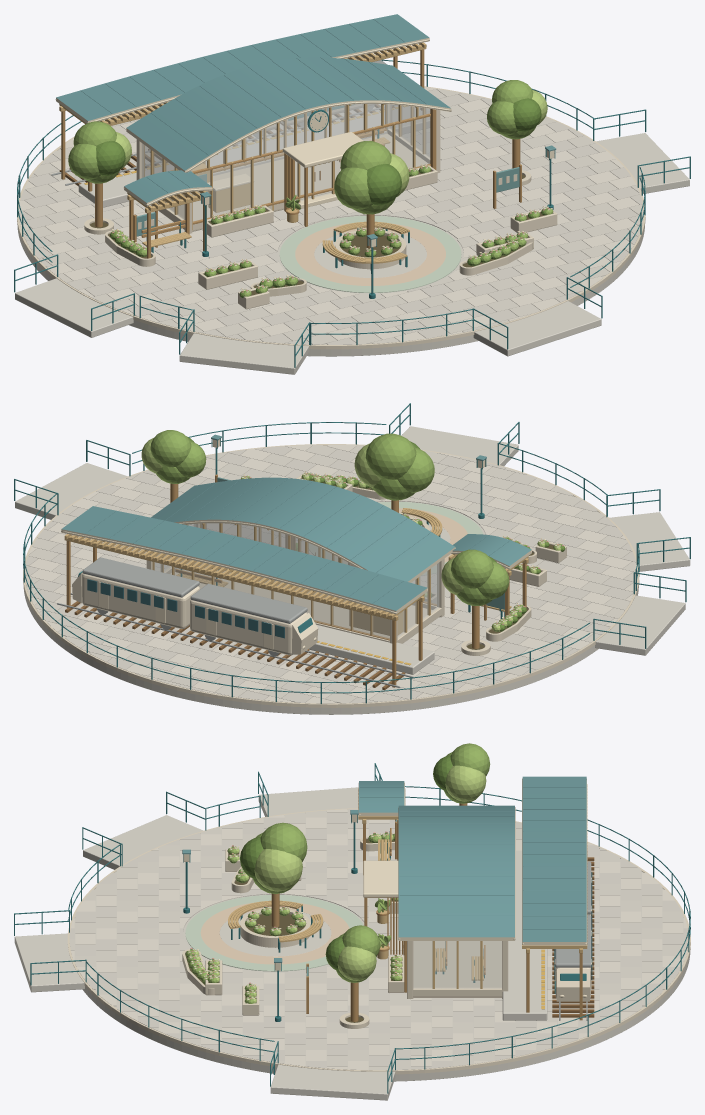
Rendered from transport.glb.
3 views of the same model, one above another, from view 1: azimuth 30°, elevation 25°; view 2: azimuth 150°, elevation 25°; view 3: azimuth 270°, elevation 25° (orthographic).
Visible parts, largest first — view 1: Site_Components__WarmLimestonePaver0, Site_Components__WarmLimestonePaver1, Site_Components__WarmLimestonePaver2, Site_Components__stone, ModernYuanliStation__roof, ModernYuanliStation__Clear warm architectural glazing, SidePlatformCanopy__roof, Landscape_Components__leaf, Landscape_Components__cream, Site_Components__rail, Landscape_Components__leafDark, Landscape_Components__Soft sage stone inlay (+27 smaller); view 2: Site_Components__WarmLimestonePaver0, Site_Components__WarmLimestonePaver2, Site_Components__WarmLimestonePaver1, Site_Components__stone, ModernYuanliStation__roof, SidePlatformCanopy__roof, Landscape_Components__leaf, Site_Components__rail, TrainRollingStock__cream, ModernYuanliStation__Clear warm architectural glazing, TrainRollingStock__gray, Site_Components__cream (+21 smaller); view 3: Site_Components__WarmLimestonePaver2, Site_Components__WarmLimestonePaver0, Site_Components__WarmLimestonePaver1, Site_Components__stone, ModernYuanliStation__roof, SidePlatformCanopy__roof, Site_Components__rail, Landscape_Components__leaf, Landscape_Components__leafLight, ModernYuanliStation__Clear warm architectural glazing, Site_Components__cream, PlatformAndDisplayTrack__stone (+23 smaller).
Part boxes in pixels (bbox=[...]): Site_Components__WarmLimestonePaver0: bbox=[23, 89, 643, 344]; Site_Components__WarmLimestonePaver1: bbox=[19, 87, 639, 341]; Site_Components__WarmLimestonePaver2: bbox=[19, 89, 643, 344]; Site_Components__stone: bbox=[15, 133, 689, 374]; ModernYuanliStation__roof: bbox=[126, 57, 450, 170]; ModernYuanliStation__Clear warm architectural glazing: bbox=[142, 103, 430, 221]; SidePlatformCanopy__roof: bbox=[56, 14, 429, 120]; Landscape_Components__leaf: bbox=[68, 80, 553, 296]; Landscape_Components__cream: bbox=[84, 165, 557, 309]; Site_Components__rail: bbox=[14, 58, 690, 367]; Landscape_Components__leafDark: bbox=[96, 98, 546, 297]; Landscape_Components__Soft sage stone inlay: bbox=[279, 216, 461, 293]; Site_Components__WarmLimestonePaver0: bbox=[25, 444, 637, 703]; Site_Components__WarmLimestonePaver2: bbox=[25, 446, 635, 703]; Site_Components__WarmLimestonePaver1: bbox=[28, 444, 635, 703]; Site_Components__stone: bbox=[15, 426, 690, 714]; ModernYuanliStation__roof: bbox=[151, 477, 454, 581]; SidePlatformCanopy__roof: bbox=[61, 506, 427, 610]; Landscape_Components__leaf: bbox=[150, 430, 562, 628]; Site_Components__rail: bbox=[14, 403, 690, 703]; TrainRollingStock__cream: bbox=[72, 572, 318, 655]; ModernYuanliStation__Clear warm architectural glazing: bbox=[154, 523, 439, 639]; TrainRollingStock__gray: bbox=[82, 557, 307, 656]; Site_Components__cream: bbox=[23, 444, 639, 707]; Site_Components__WarmLimestonePaver2: bbox=[69, 809, 688, 1069]; Site_Components__WarmLimestonePaver0: bbox=[69, 810, 688, 1070]; Site_Components__WarmLimestonePaver1: bbox=[71, 809, 687, 1070]; Site_Components__stone: bbox=[14, 787, 690, 1100]; ModernYuanliStation__roof: bbox=[398, 805, 514, 937]; SidePlatformCanopy__roof: bbox=[522, 776, 586, 941]; Site_Components__rail: bbox=[14, 763, 690, 1093]; Landscape_Components__leaf: bbox=[185, 743, 490, 1003]; Landscape_Components__leafLight: bbox=[193, 765, 486, 1003]; ModernYuanliStation__Clear warm architectural glazing: bbox=[413, 941, 501, 988]; Site_Components__cream: bbox=[67, 808, 690, 1074]; PlatformAndDisplayTrack__stone: bbox=[502, 850, 547, 1020].
Size of the model in its own units: 29.59 by 5.3 by 27.42.
